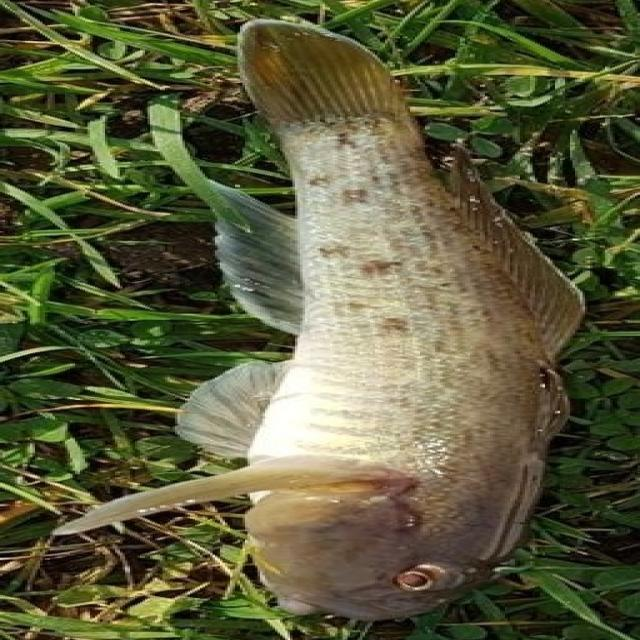Goby: (41, 12, 640, 637)
